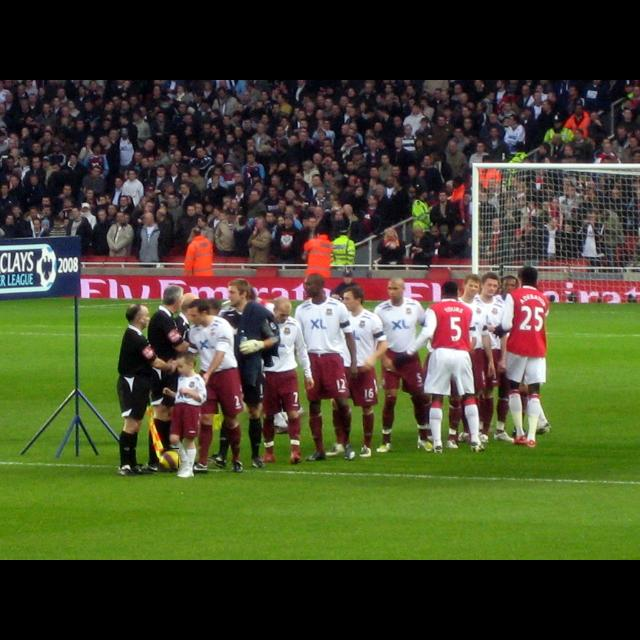Football: (159, 448, 179, 468)
